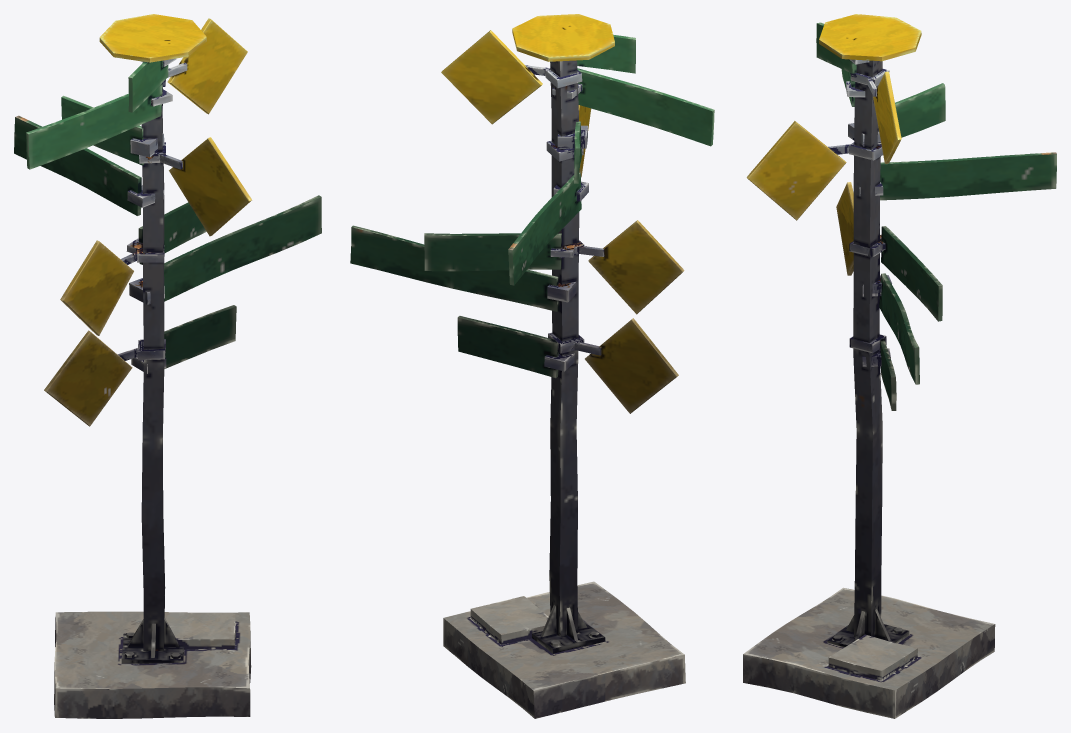
The picture shows the model from 3 angles, left to right: view 1: azimuth 30°, elevation 25°; view 2: azimuth 150°, elevation 25°; view 3: azimuth 270°, elevation 25°; orthographic projection. The views are drawn at different scales.
Parts seen in each view (by area): view 1: StreetSigns, WarningSigns, Footing, Post, Clamps; view 2: StreetSigns, Footing, WarningSigns, Post, Clamps; view 3: Footing, Post, StreetSigns, WarningSigns, Clamps.
Boxes of the visible parts, x1,y1,x2,y2 form: StreetSigns: (14, 60, 321, 368); WarningSigns: (44, 14, 251, 426); Footing: (54, 611, 251, 718); Post: (121, 61, 184, 663); Clamps: (117, 58, 187, 373); StreetSigns: (350, 34, 714, 378); Footing: (443, 581, 685, 718); WarningSigns: (441, 14, 684, 413); Post: (532, 60, 605, 653); Clamps: (525, 65, 604, 371); Footing: (743, 587, 995, 718); Post: (827, 60, 909, 647); StreetSigns: (816, 22, 1056, 410); WarningSigns: (746, 14, 921, 275); Clamps: (828, 59, 891, 366).
Bounding box in the file's own units: 6.85 × 12.72 × 5.7.
5 materials, 5 textured.
